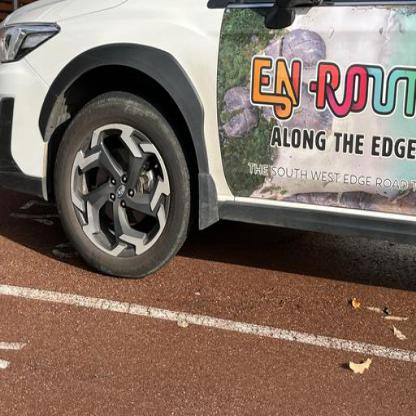Tire: (53, 90, 190, 278)
